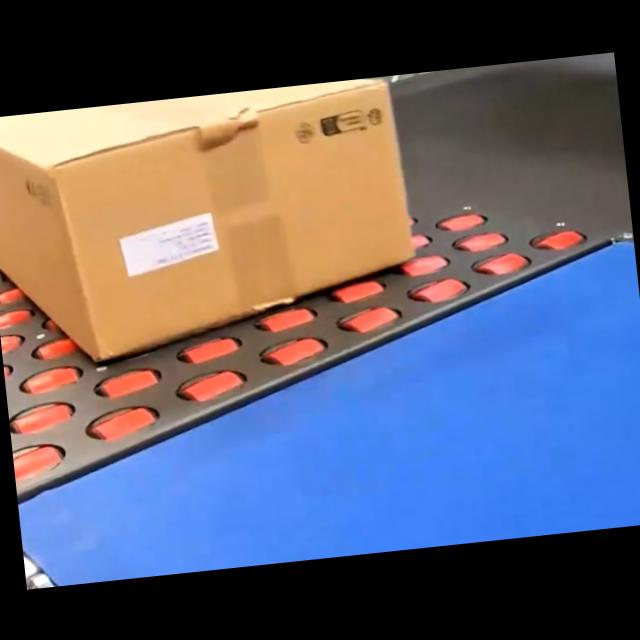box: (0, 73, 423, 372)
